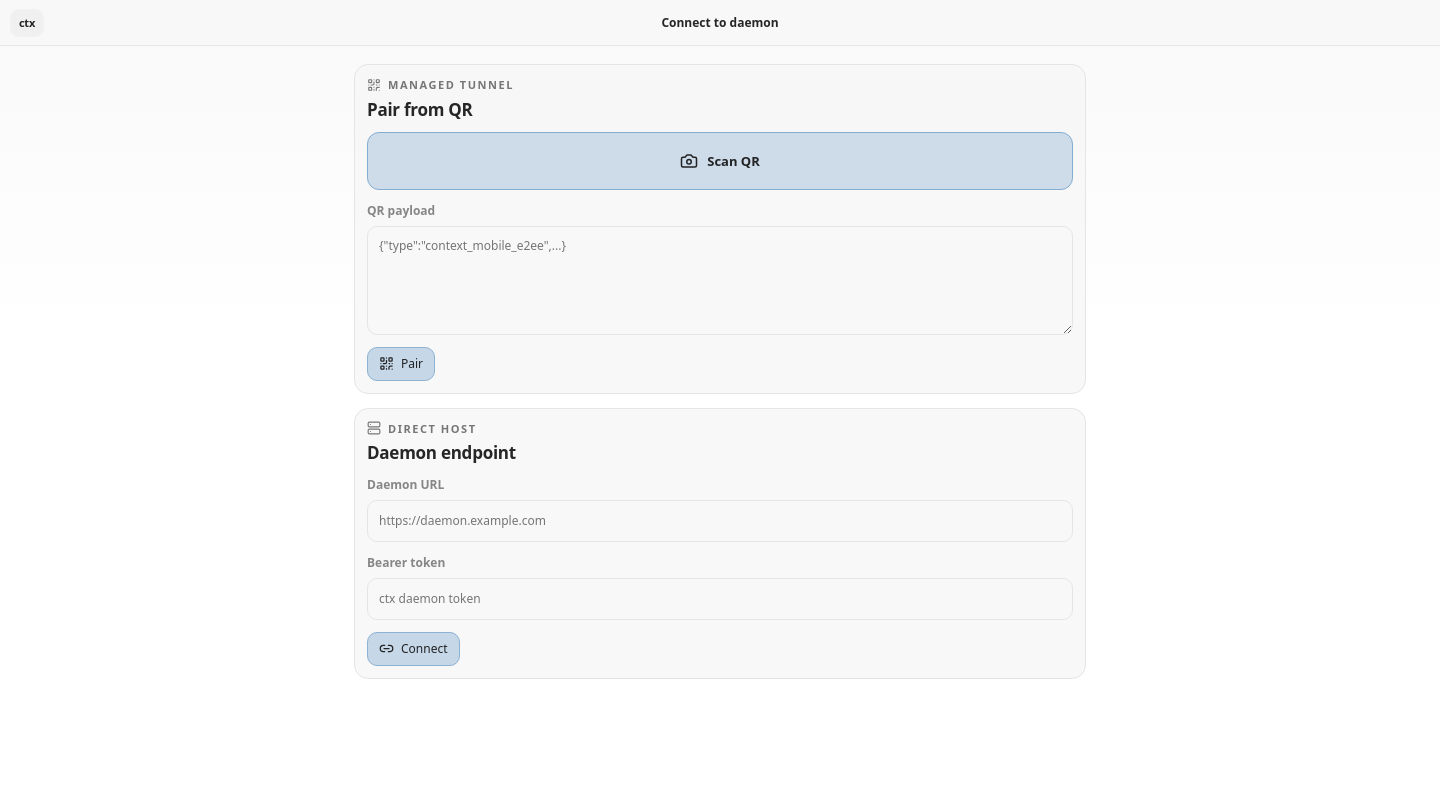
Test case: MobileConnectPage › falls back to paste when camera scanning is unavailable
This screenshot has width=1440, height=810.
Click the button "Scan QR": (720, 161) [367, 132, 1073, 190]
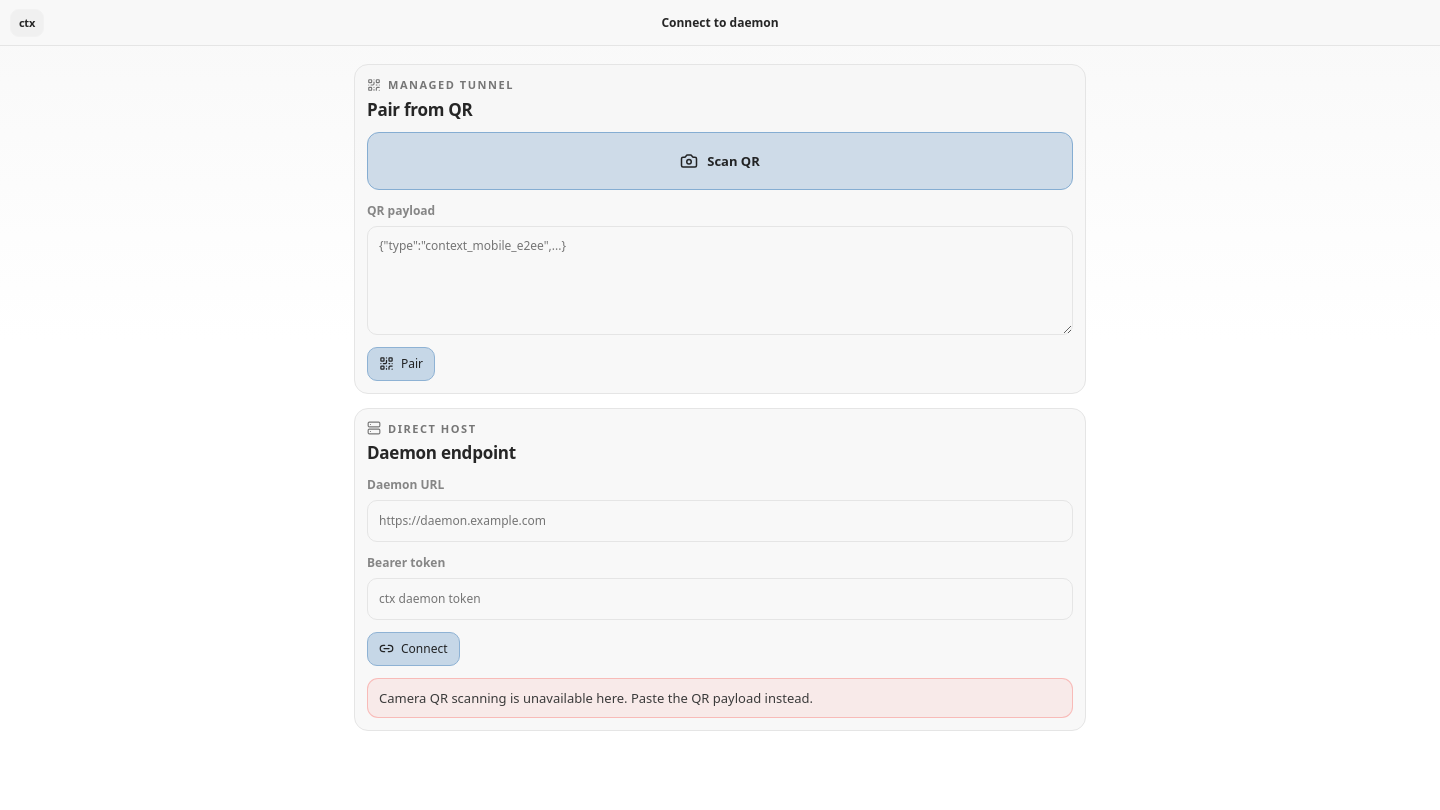
Expected: the text "Camera QR scanning is unavailable here. Paste the QR payload instead." is shown, [367, 678, 1073, 718]
